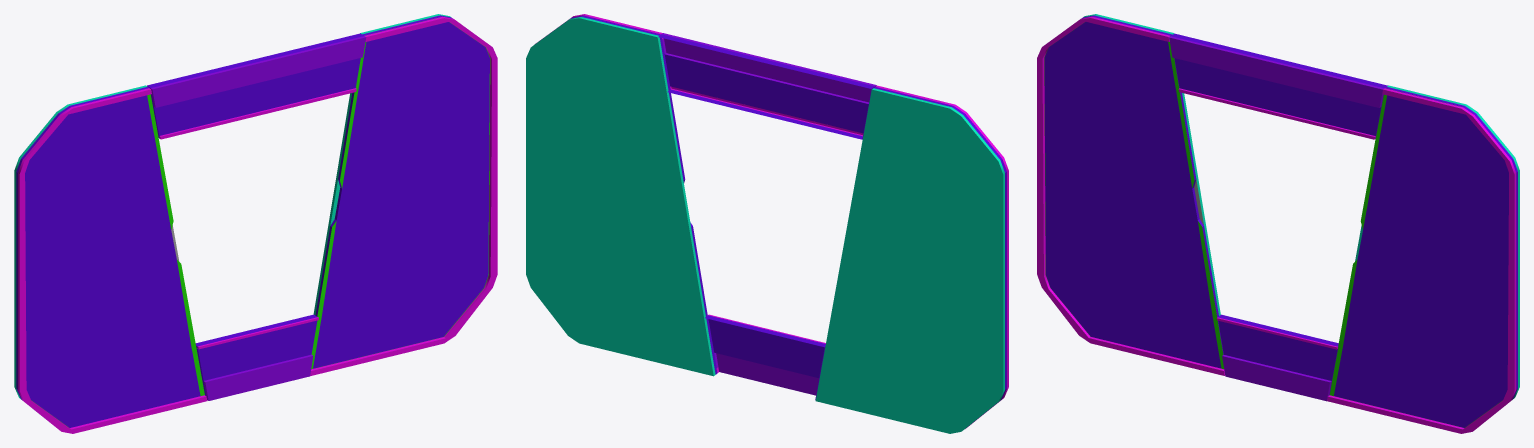
File: closet_front door_low.fbx
3 renders of one model, left to right at view 1: azimuth 30°, elevation 25°; view 2: azimuth 150°, elevation 25°; view 3: azimuth 330°, elevation 25°, orthographic.
Visible parts, largest first — view 1: closet_rightdoor, closet_leftdoor, closet_front_door1, closet_right_light, closet_left_light, closet_front_door_light; view 2: closet_rightdoor, closet_leftdoor, closet_front_door1, closet_left_light, closet_front_door_light; view 3: closet_leftdoor, closet_rightdoor, closet_front_door1, closet_right_light, closet_left_light, closet_front_door_light.
Part boxes in pixels (x1,y1,x2,y2): closet_rightdoor: (311,14,490,369); closet_leftdoor: (14,85,204,427); closet_front_door1: (147,33,366,400); closet_right_light: (310,16,497,376); closet_left_light: (18,88,207,433); closet_front_door_light: (159,88,356,349); closet_rightdoor: (526,15,717,376); closet_leftdoor: (815,87,1006,433); closet_front_door1: (658,33,876,399); closet_left_light: (876,85,1008,428); closet_front_door_light: (670,86,863,343); closet_leftdoor: (1044,14,1223,369); closet_rightdoor: (1329,85,1519,427); closet_front_door1: (1169,33,1387,401); closet_right_light: (1327,88,1516,433); closet_left_light: (1037,16,1225,375); closet_front_door_light: (1178,88,1375,349).
Size of the model in its own units: 399 by 260 by 8.4.
